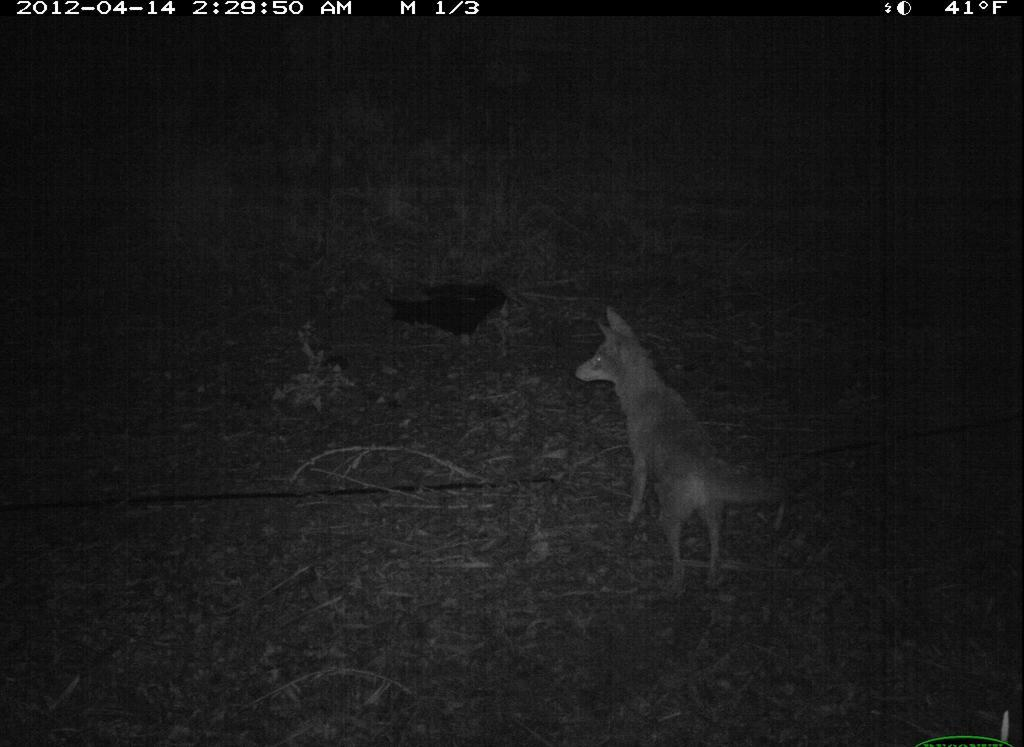coyote: (573, 300, 788, 604)
